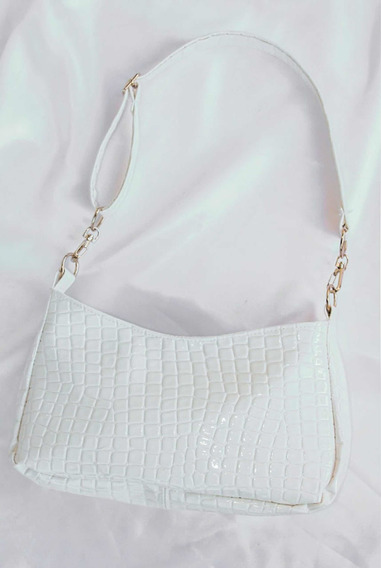cartera: (10, 34, 350, 515)
